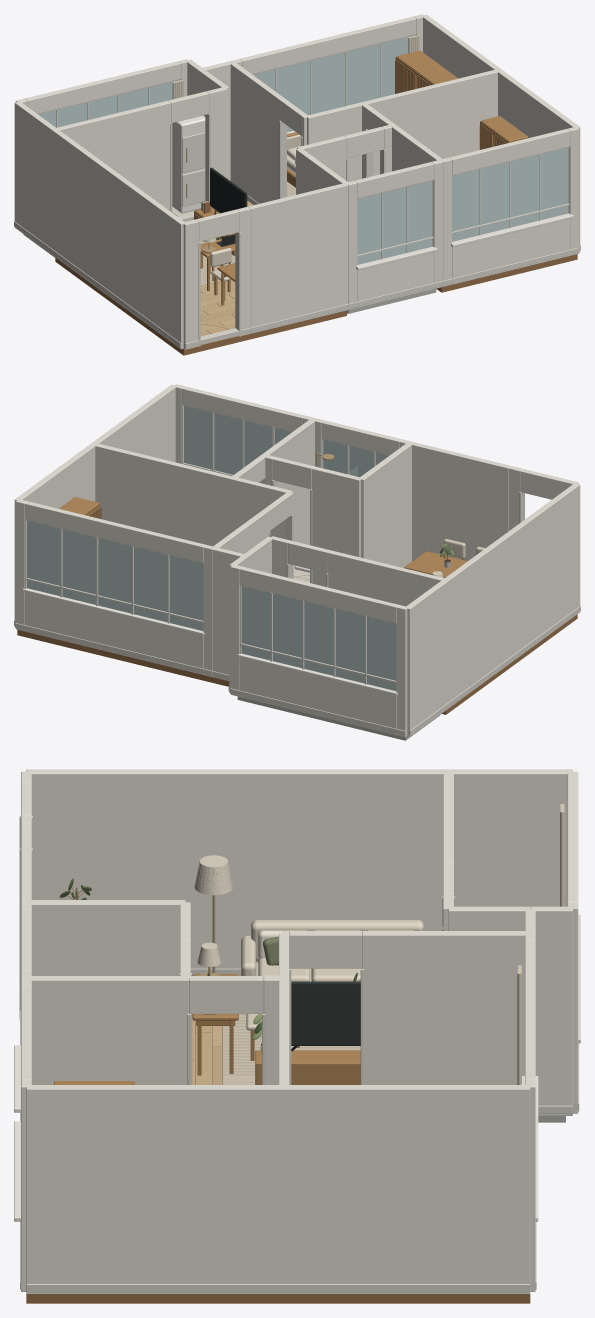
The model's file is new-home-c.glb.
3 views of the same model, one above another, from view 1: azimuth 30°, elevation 25°; view 2: azimuth 150°, elevation 25°; view 3: azimuth 270°, elevation 25° (orthographic). The views are drawn at different scales.
Visible parts, largest first — view 1: Plaster wall (×28), Pale glazing (×4), Skirting board (×5), Floor underlay (×2), Door jamb (×3), Refrigerator door (×2), Carcass (×2), Refrigerator, Stone window sill (×2), Television screen, Oak door panel; view 2: Plaster wall (×29), Pale glazing (×4), Skirting board (×3), Floor underlay (×2), Stone window sill (×2), Solid oak tabletop, Window rail; view 3: Plaster wall (×20), Floor underlay (×2), Television frame, Skirting board, Carcass, Soft back, Bound wool rug, Pleated shade, Stone window sill, Seat cushion.
Part boxes in pixels (left/top/right/bottom): Plaster wall (×28): left=14, top=14, right=580, bottom=349; Pale glazing (×4): left=38, top=35, right=568, bottom=264; Skirting board (×5): left=14, top=221, right=579, bottom=348; Floor underlay (×2): left=135, top=254, right=577, bottom=355; Door jamb (×3): left=205, top=114, right=286, bottom=336; Refrigerator door (×2): left=182, top=132, right=205, bottom=206; Carcass (×2): left=396, top=50, right=528, bottom=142; Refrigerator: left=172, top=115, right=205, bottom=213; Stone window sill (×2): left=356, top=213, right=573, bottom=270; Television screen: left=210, top=169, right=244, bottom=212; Oak door panel: left=395, top=59, right=415, bottom=93; Plaster wall (×29): left=14, top=384, right=580, bottom=737; Pale glazing (×4): left=27, top=406, right=396, bottom=690; Skirting board (×3): left=15, top=606, right=580, bottom=735; Floor underlay (×2): left=17, top=629, right=440, bottom=740; Stone window sill (×2): left=22, top=588, right=397, bottom=695; Solid oak tabletop: left=404, top=551, right=467, bottom=577; Window rail: left=26, top=578, right=203, bottom=622; Plaster wall (×20): left=21, top=769, right=578, bottom=1294; Floor underlay (×2): left=26, top=1294, right=530, bottom=1303; Television frame: left=291, top=981, right=360, bottom=1045; Skirting board: left=26, top=1284, right=530, bottom=1292; Carcass: left=255, top=1050, right=360, bottom=1084; Soft back: left=251, top=919, right=423, bottom=961; Bound wool rug: left=222, top=1014, right=360, bottom=1084; Pleated shade: left=194, top=855, right=233, bottom=895; Stone window sill: left=14, top=1121, right=20, bottom=1221; Seat cushion: left=311, top=968, right=360, bottom=981.
Bounding box in the file's own units: 8.54 × 2.69 × 6.38.
